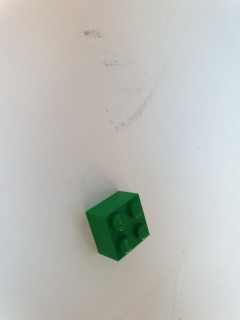2x2 green: (86, 190, 150, 262)
